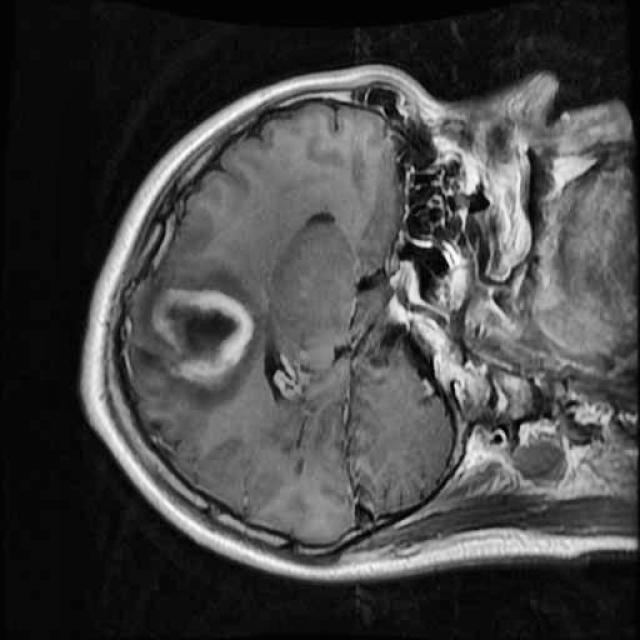Tumor: (126, 268, 274, 402)
